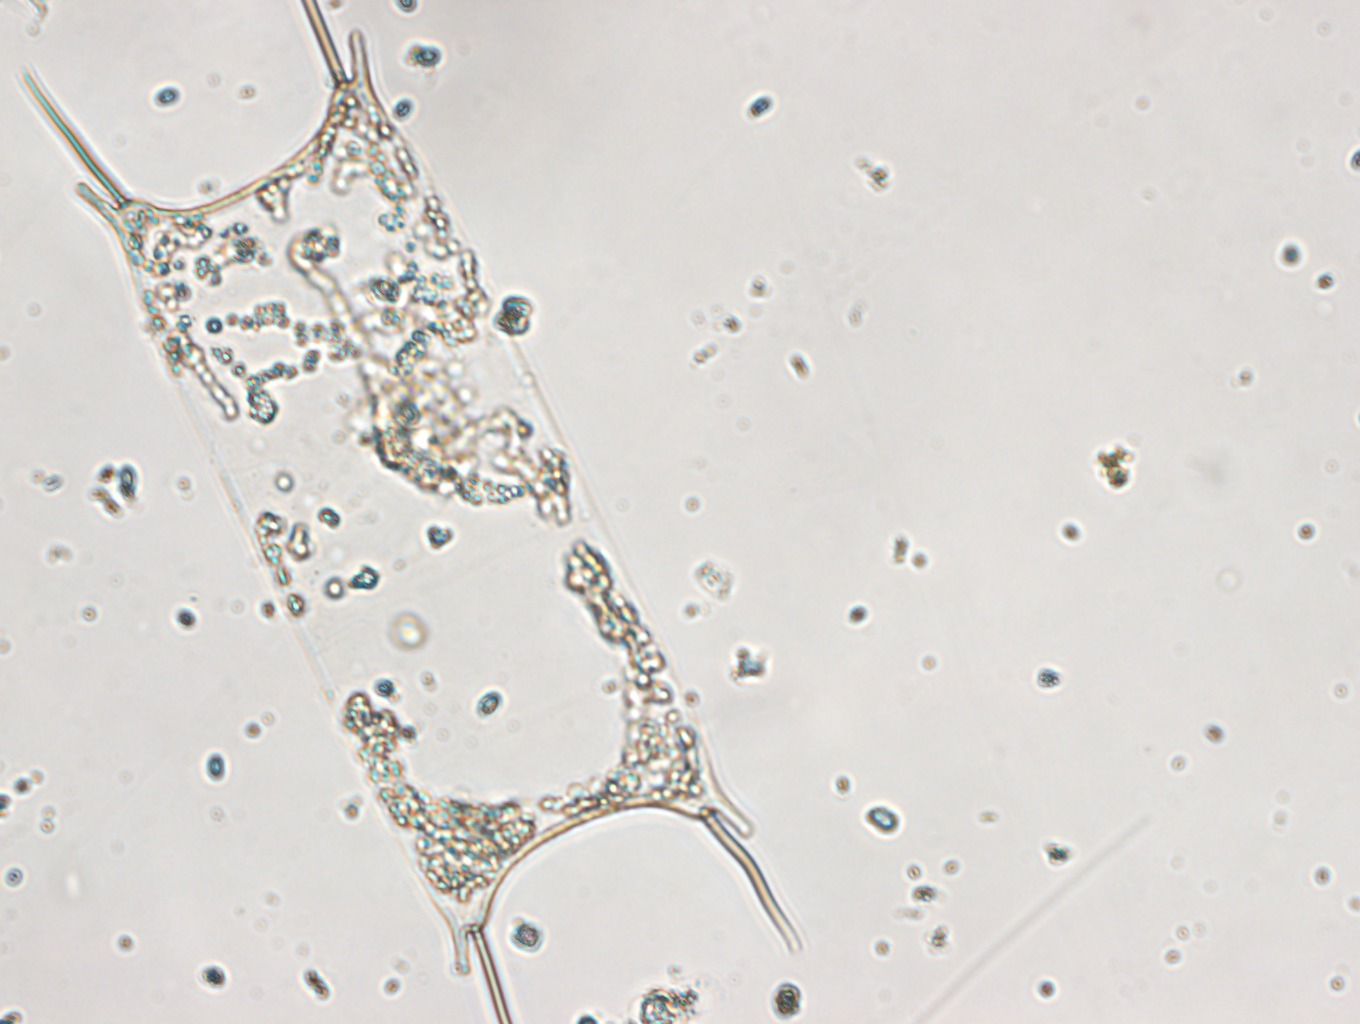biddulphia: (14, 1, 802, 1024)
